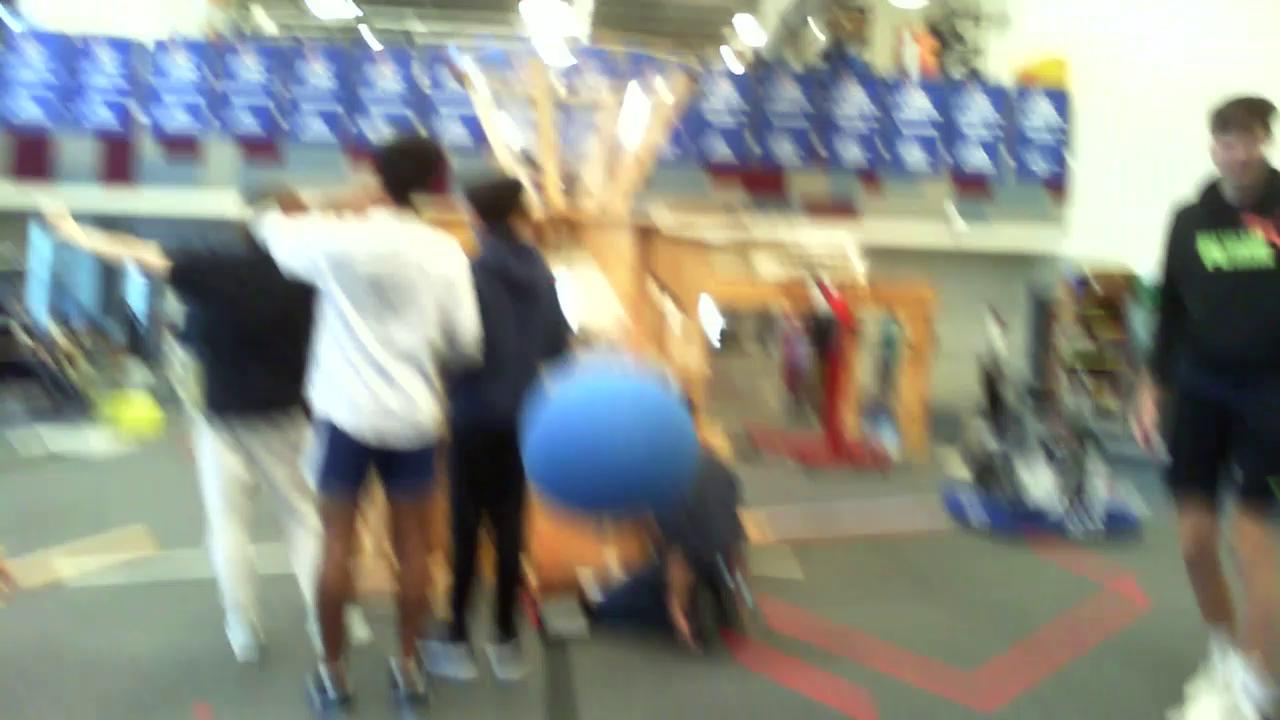robot: (940, 351, 1141, 542)
